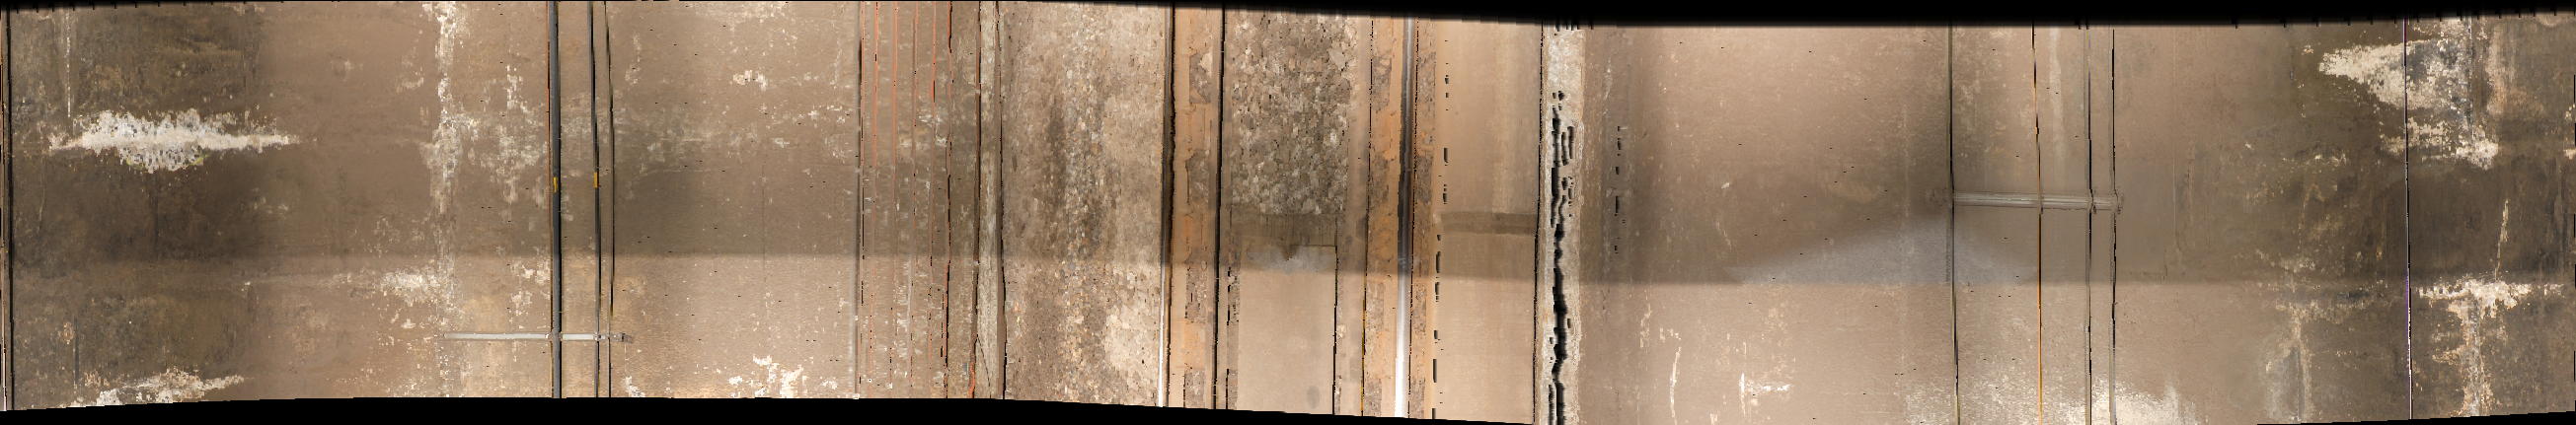pipes: (843, 7, 1022, 425), (542, 7, 632, 415), (2077, 16, 2124, 425), (1935, 13, 1976, 425), (2019, 21, 2054, 425), (2397, 7, 2423, 425)
tracks: (1161, 2, 1559, 425)
